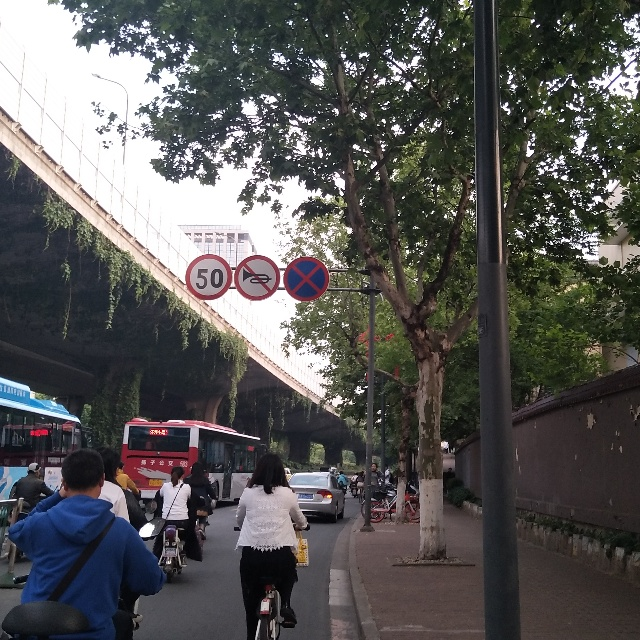nohonk: (230, 250, 283, 300)
stop: (285, 255, 327, 298)
